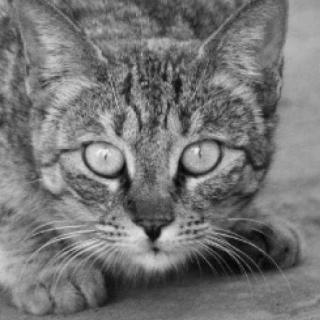cat: (13, 0, 298, 282)
nose: (124, 182, 182, 242)
